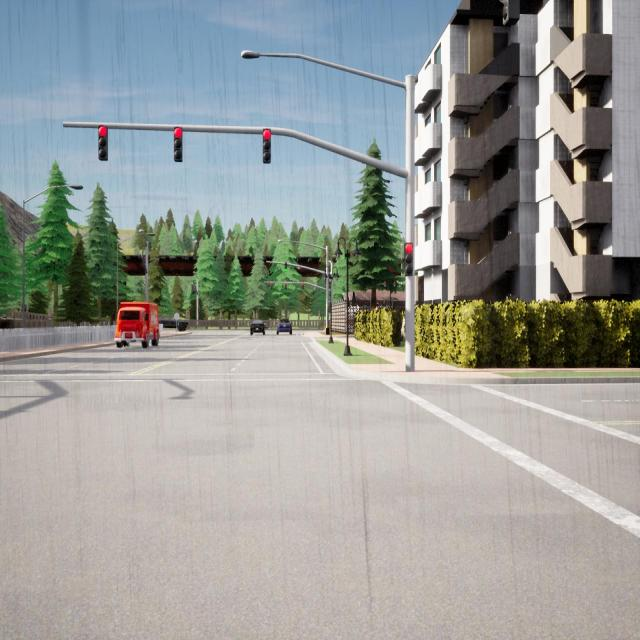Traffic_Signs: (175, 313, 179, 319)
Vehicle: (115, 301, 159, 348), (160, 316, 188, 332), (250, 319, 266, 336), (276, 318, 292, 335)
traffic_light: (499, 0, 519, 25), (262, 128, 272, 164), (98, 125, 108, 160), (404, 243, 413, 276), (174, 127, 182, 162), (284, 262, 287, 272), (302, 282, 304, 290), (270, 283, 272, 290), (285, 282, 287, 289), (192, 286, 193, 294), (194, 286, 195, 293)
